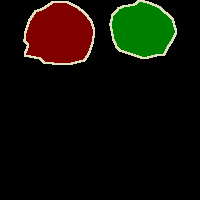hat: (24, 1, 94, 64), (110, 0, 176, 58)
